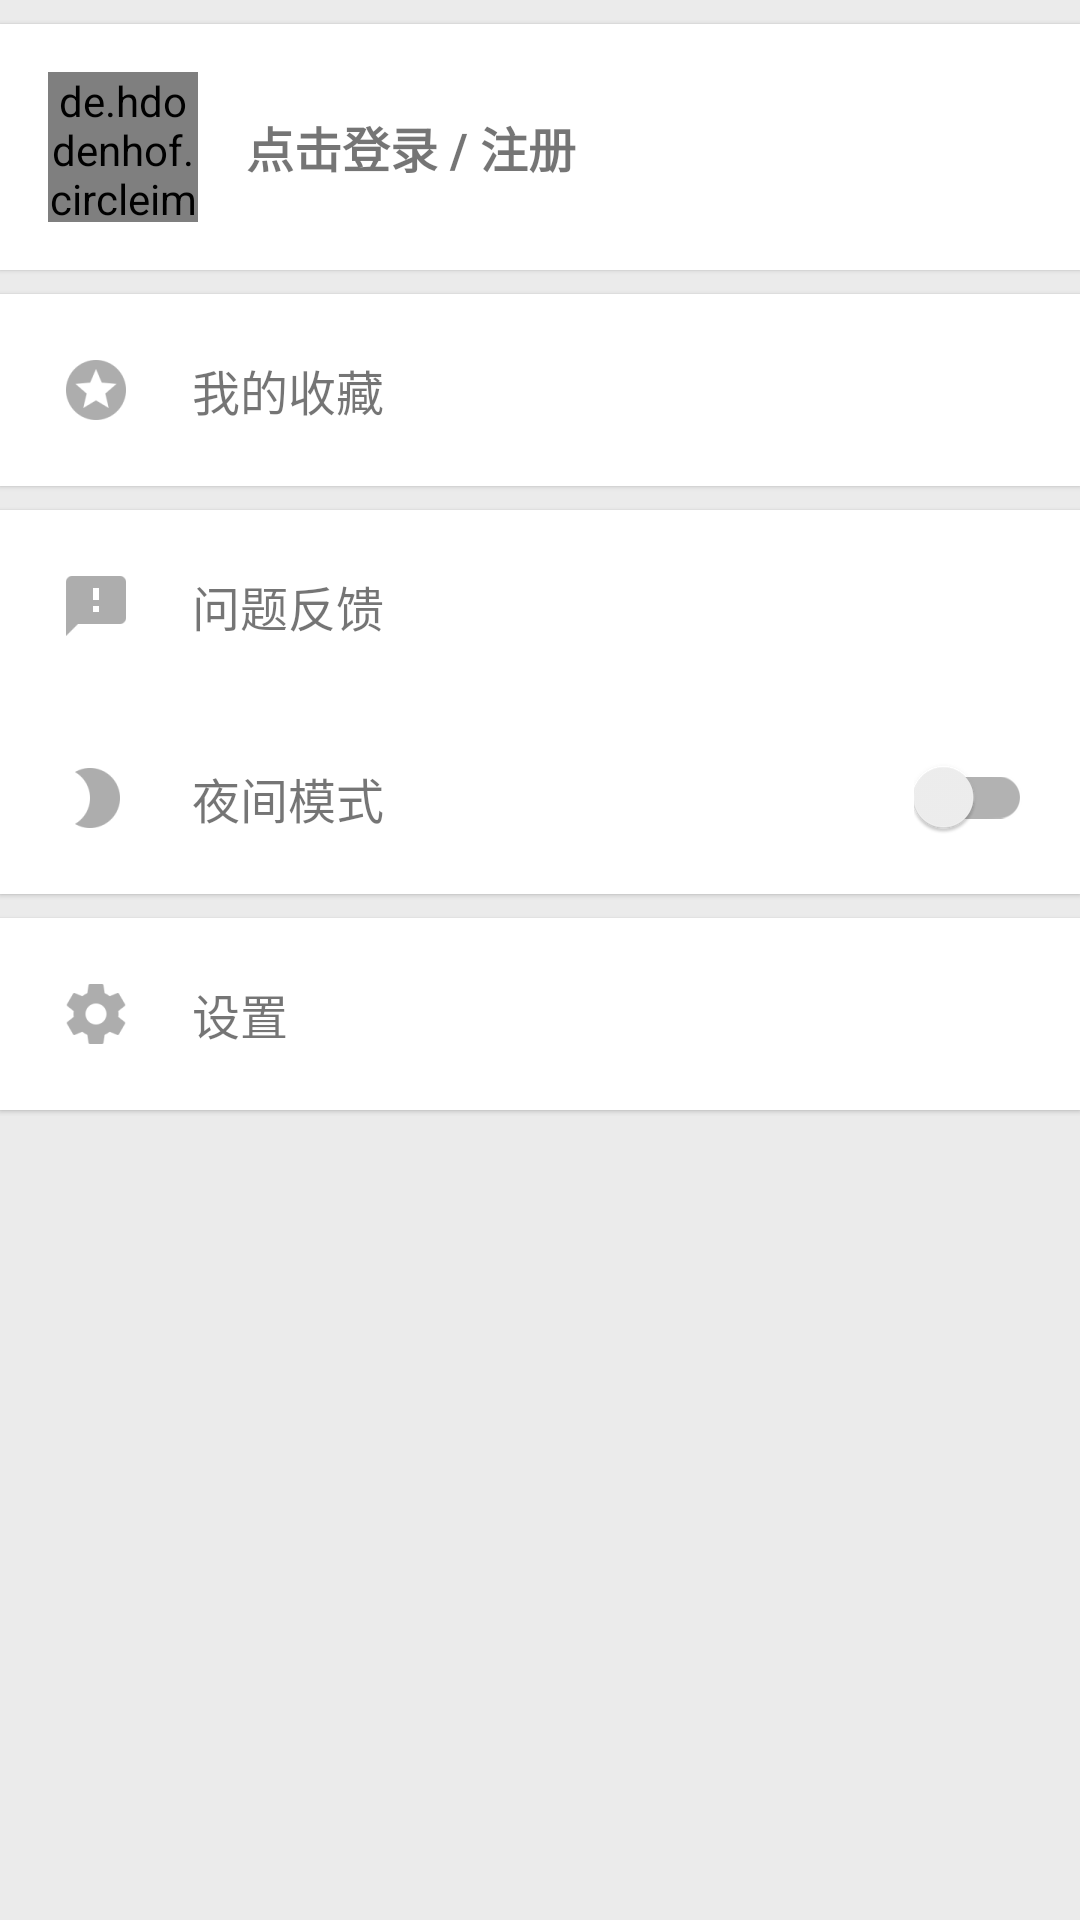

Named icons in this screenshot (1080px x 1920px) and their centers, [x,y]:
brightness: [97,798]
feedback: [96,606]
settings: [96,1014]
stars: [96,390]
